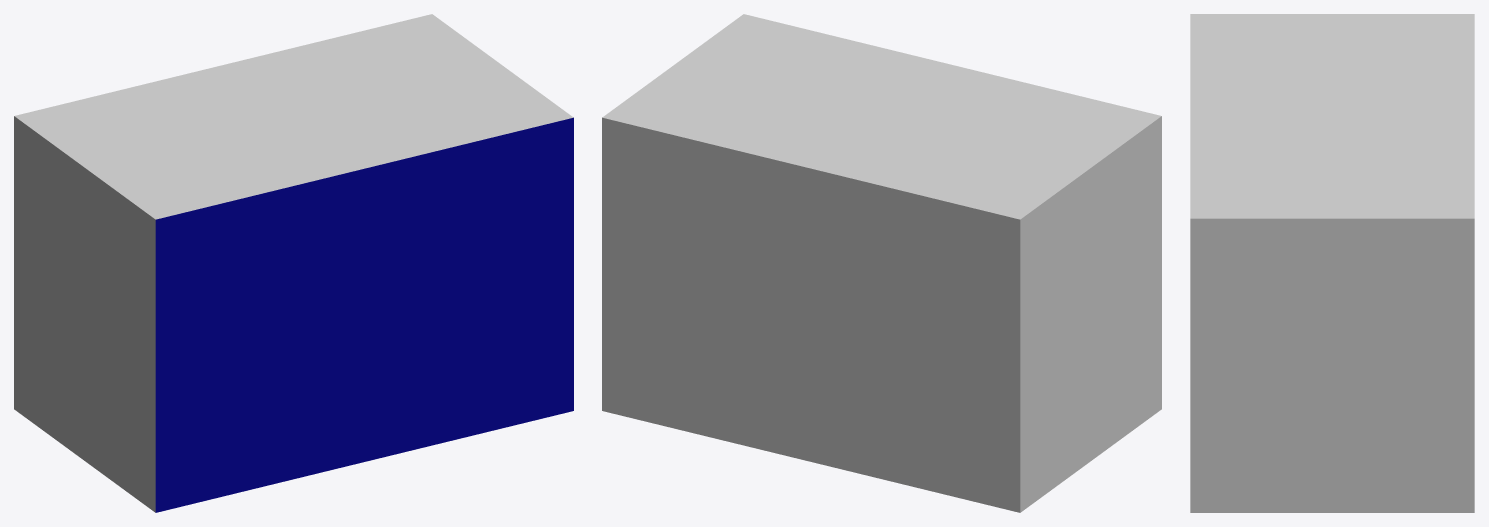
Rendered from kinematics_car.dae.
The picture shows the model from 3 angles, left to right: view 1: azimuth 30°, elevation 25°; view 2: azimuth 150°, elevation 25°; view 3: azimuth 270°, elevation 25°; orthographic projection.
Parts seen in each view (by area): view 1: SketchUp (×2); view 2: SketchUp; view 3: SketchUp.
Part boxes in pixels (box(x1,y1,x2,y2)): SketchUp (×2): box(14, 14, 573, 512); SketchUp: box(602, 14, 1161, 512); SketchUp: box(1190, 14, 1474, 512).
Size of the model in its own units: 705 by 413 by 472.
